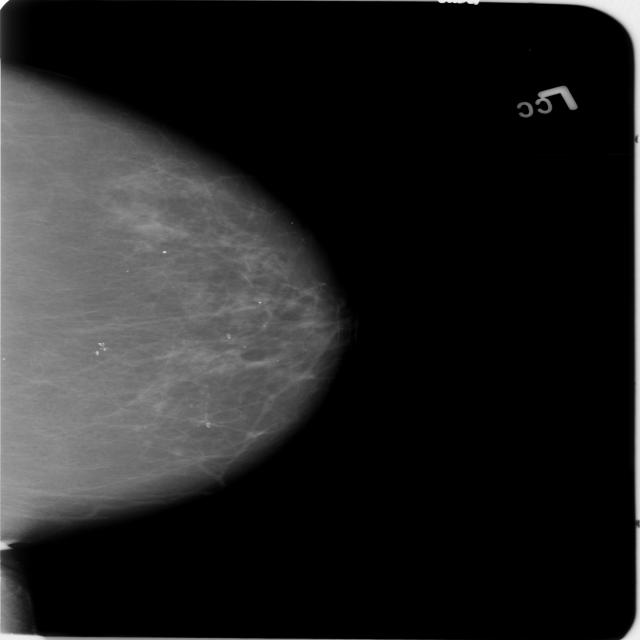normal: (0, 53, 348, 542)
